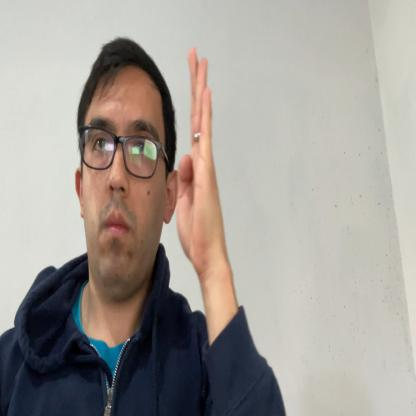B: (177, 49, 223, 278)
